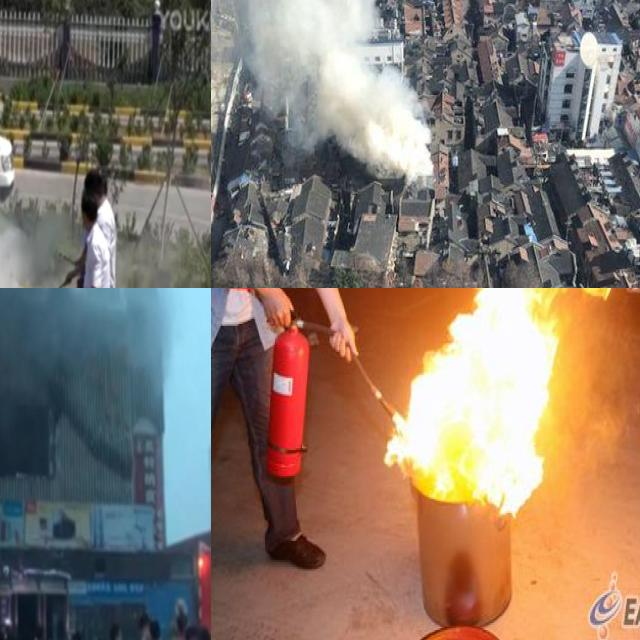fire: (384, 288, 574, 513)
smoke: (211, 0, 431, 174), (0, 288, 176, 432), (0, 207, 78, 288)
